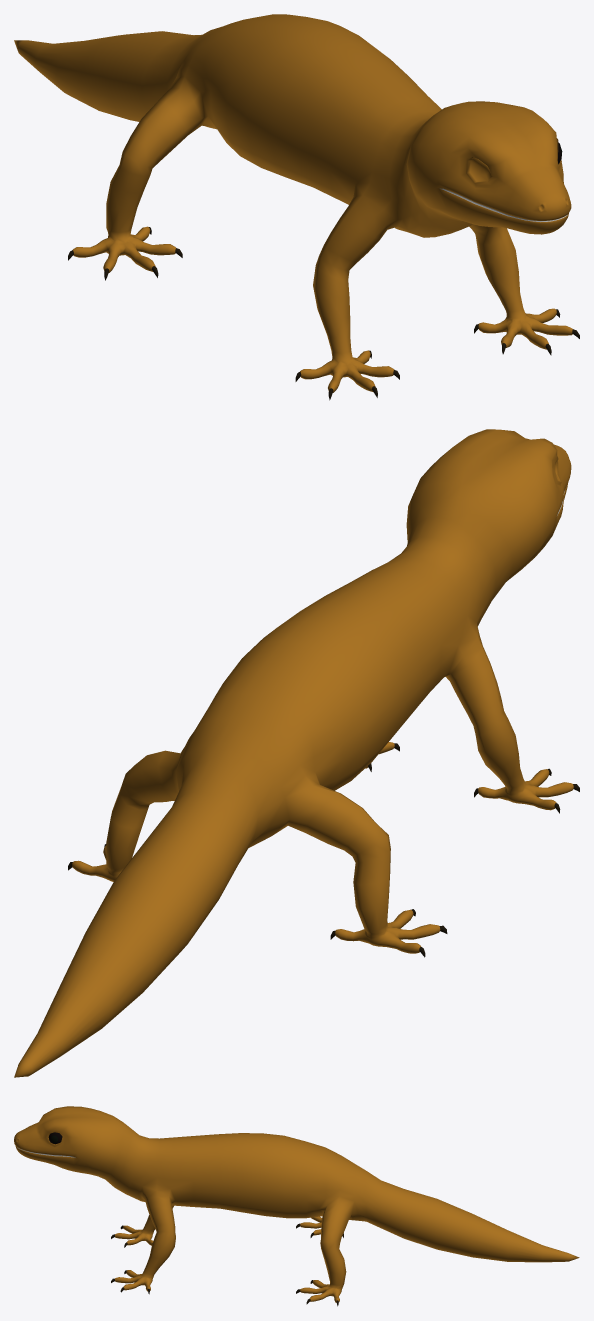
The model's file is gecko.obj.
3 renders of one model, top to bottom at view 1: azimuth 30°, elevation 25°; view 2: azimuth 150°, elevation 25°; view 3: azimuth 270°, elevation 25°, orthographic. The views are drawn at different scales.
Visible parts, largest first — view 1: gecko; view 2: gecko; view 3: gecko.
Part boxes in pixels (x1,y1,x2,y2): gecko: (14, 14, 579, 400); gecko: (14, 429, 579, 1077); gecko: (14, 1106, 579, 1306).
Size of the model in its own units: 0.0976 by 0.0739 by 0.2571.
